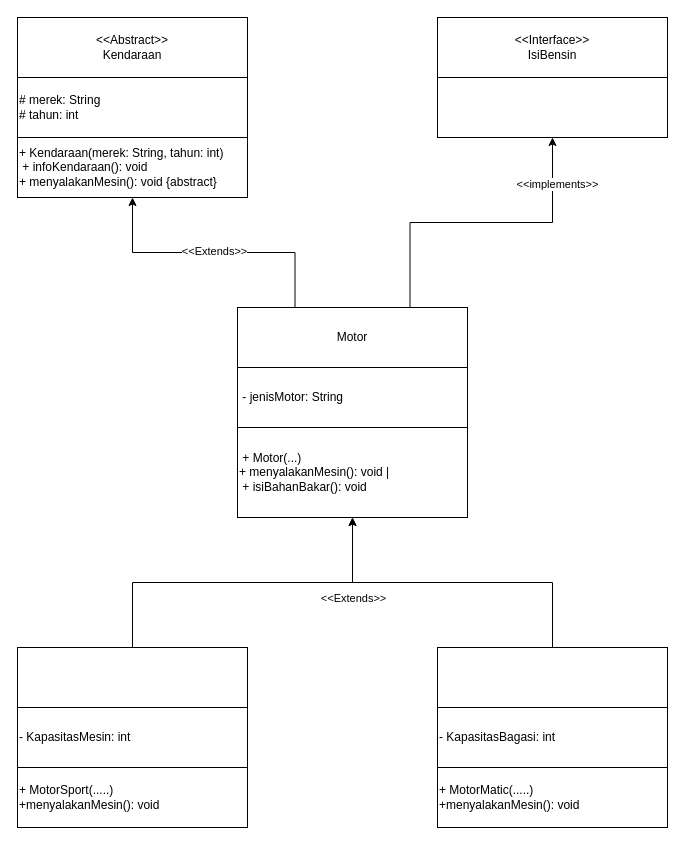
The diagram is 685 pixels wide and 845 high, and some of its shapes have lost their labels. The centre of each missing label's shape, as x and y in pixels:
+ isiBahanBakar(): void: the point at 552,107
MotorMatic: the point at 552,677
MotorSport: the point at 132,677
